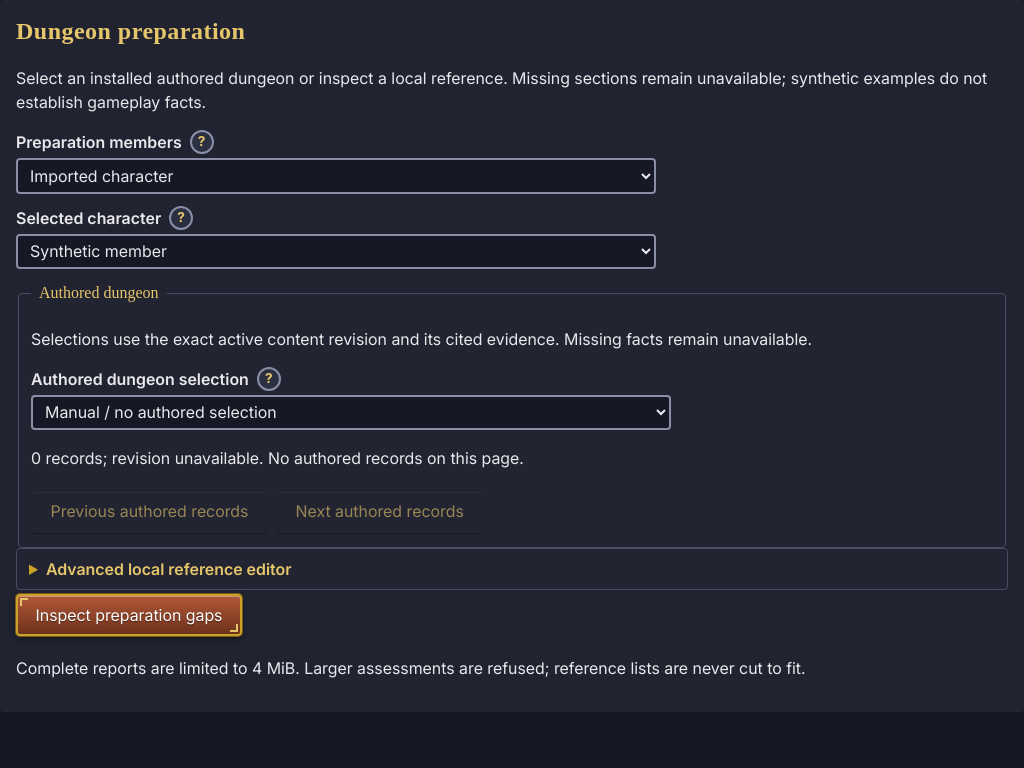
Scenario: marks the authored dungeon, its quests, reward sources and travel edges
Click the button "Inspect preparation gaps" at (129, 615), box [16,594,242,636]
(page scrolled)
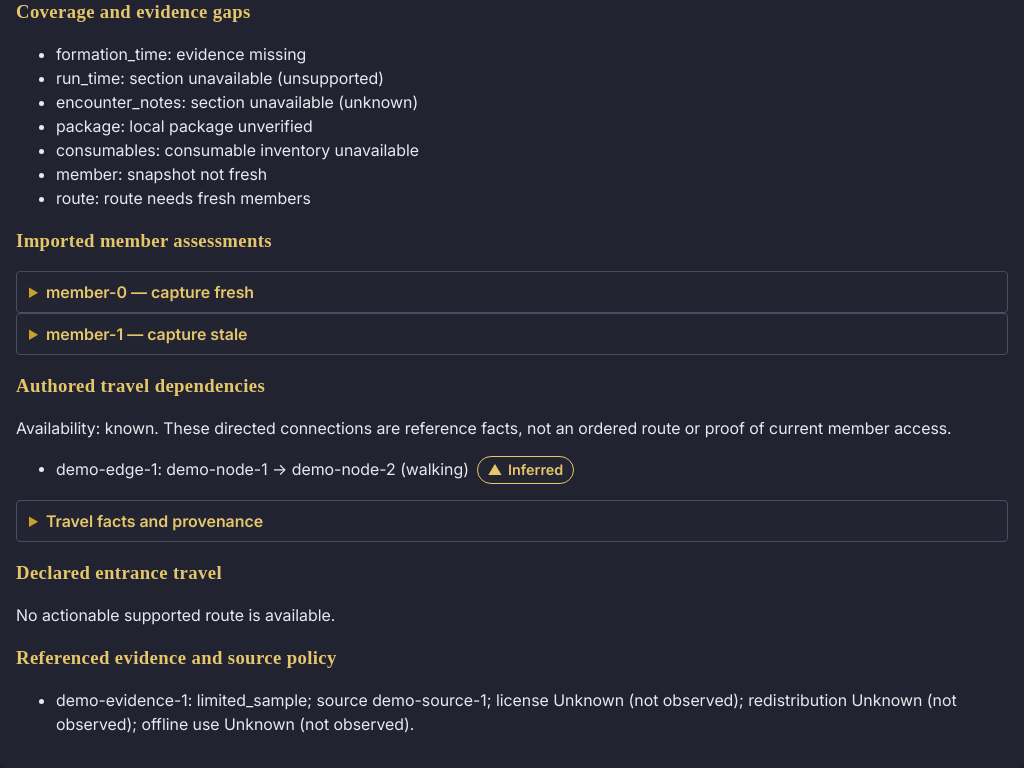
Now the list item "demo-edge-1: demo-node-1 → demo-node-2 (walking) ▲ Inferred" is shown, box [56,456,574,484]
